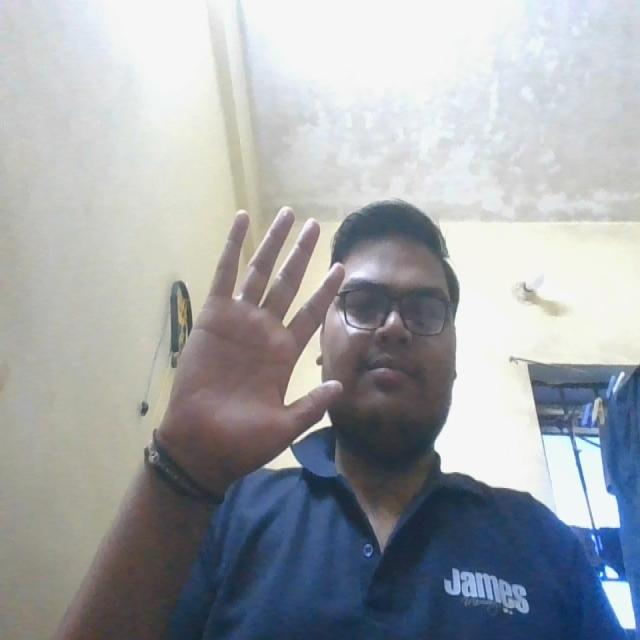Hello: (157, 172, 353, 502)
